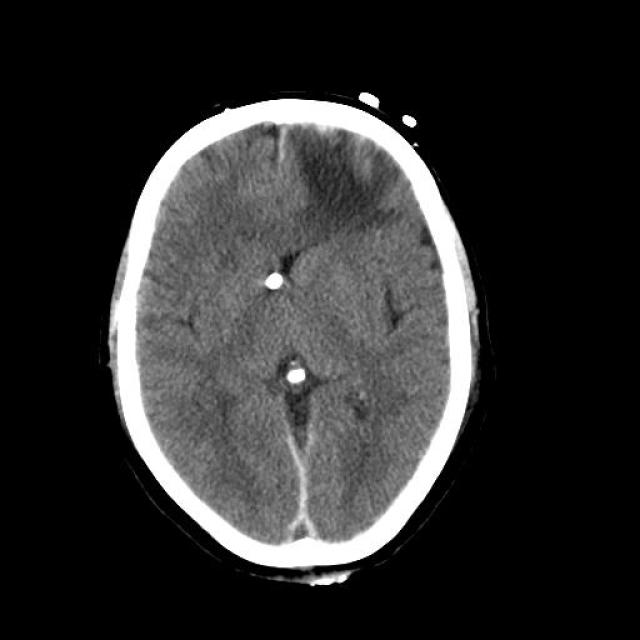Subdural: (256, 398, 374, 562)
